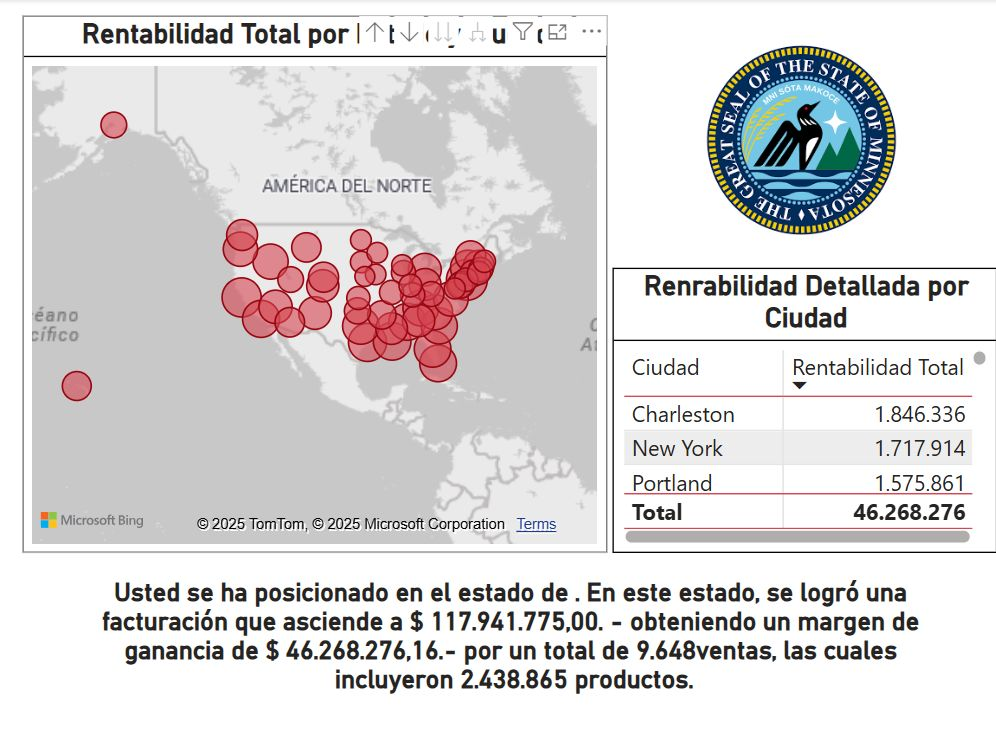

What the dashboard file says about the page in this screenshot:
{"tool":"powerbi","page":{"name":"TOOLTIP","canvas":[610,450],"ordinal":5},"visuals":[{"type":"map","fields":{"Category":["ESTADOS.Estado","CIUDADES.Ciudad"],"Size":["MEDIDAS.Rentabilidad Total"]},"box":[13.8,9.9,357.7,328.6],"z":0},{"type":"tableEx","title":"Renrabilidad Detallada por Ciudad","fields":{"Values":["CIUDADES.Ciudad","MEDIDAS.Rentabilidad Total"]},"box":[374.5,164.3,235.4,174.3],"z":1000},{"type":"card","fields":{"Values":["MEDIDAS.Narrativa Tooltip"]},"box":[13.8,343.9,601.5,91.7],"z":2000},{"type":"cardVisual","fields":{"Data":["Min(ESTADOS.Escudo)"]},"box":[409.6,9.9,165.1,148.3],"z":3000}]}

Visuals, with their boxes in screenshot pixels (x1, y1, x2, y2), scaled from the page's 610x450 canvas onto the 996x734 screenshot:
map - ESTADOS.Estado x CIUDADES.Ciudad: bbox=[23, 16, 607, 552]
"Renrabilidad Detallada por Ciudad" tableEx: bbox=[611, 268, 995, 552]
card - MEDIDAS.Narrativa Tooltip: bbox=[23, 561, 995, 711]
cardVisual - Min(ESTADOS.Escudo): bbox=[669, 16, 938, 258]
